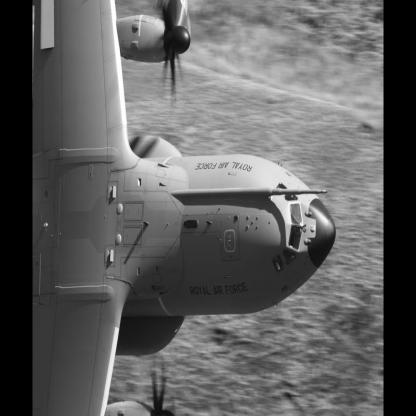A400M: (34, 2, 338, 416)
